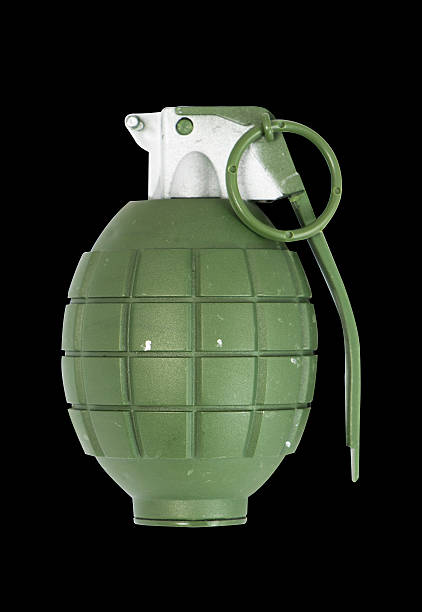e1: (56, 105, 368, 531)
